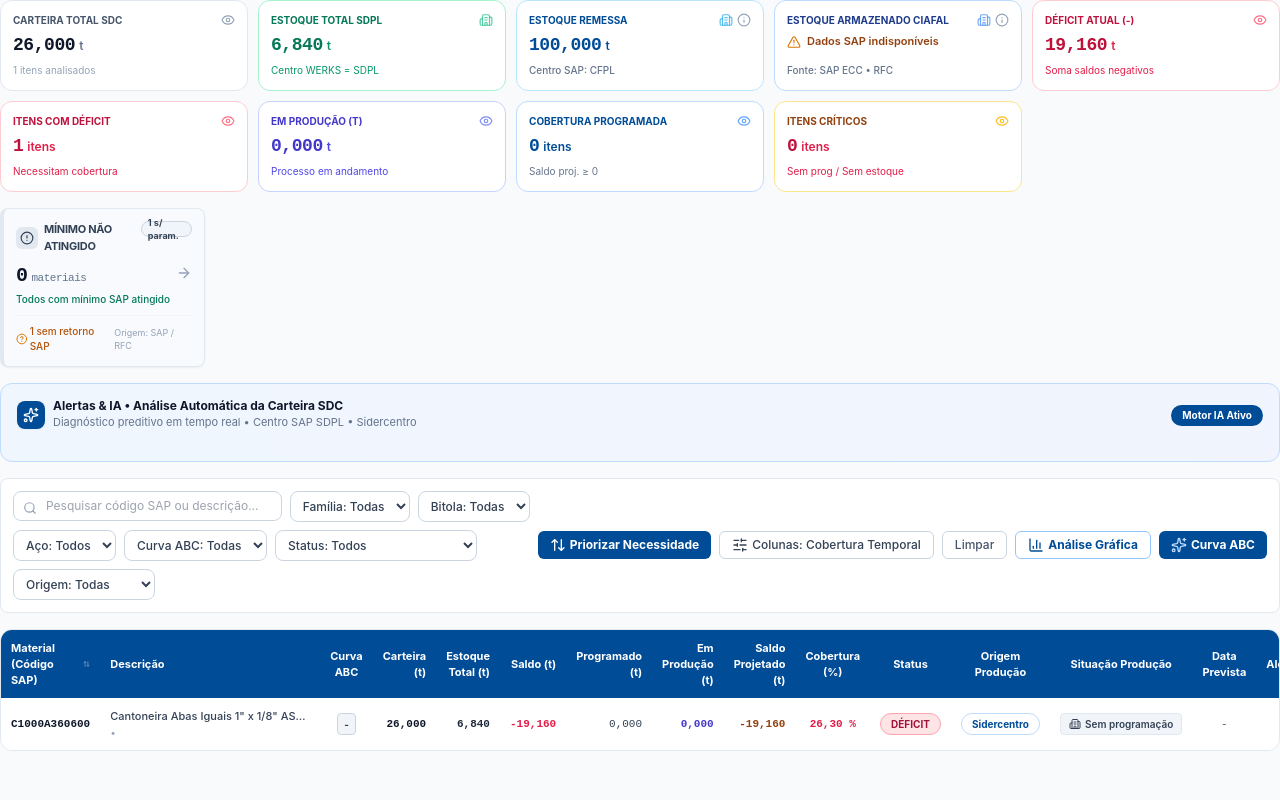
Test: Carteira SDC — Indicadores Estoque Remessa e Estoque Armazenado Ciafal (Cenários 1 a 5) › Cenário 11: Filtro por código ou descrição do centro refina a lista e exibe Total Filtrado com contagem e remove selo Conferido
This screenshot has width=1280, height=800.
Click the button with test id "card-estoque-remessa".
click(640, 46)  # box [516,0,764,91]
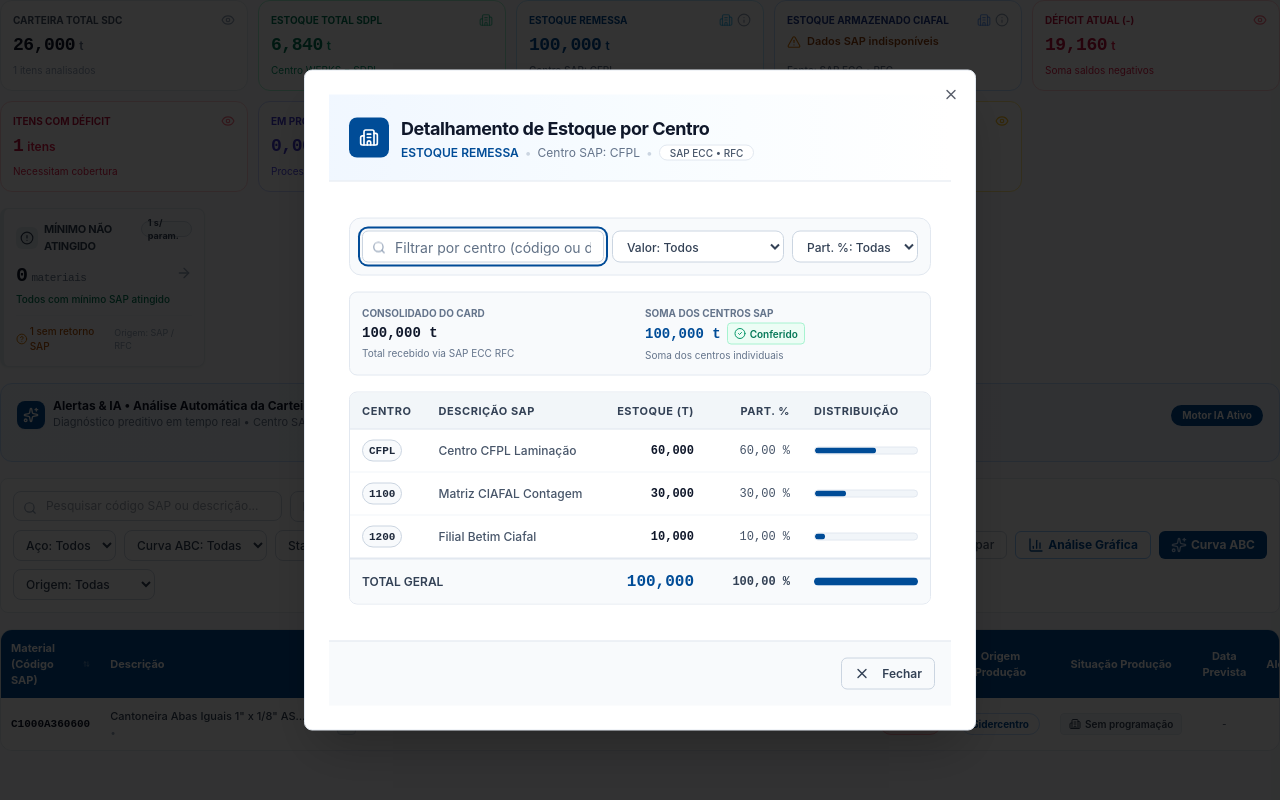
expect the dialog with test id "modal-detalhamento-estoque-centro" is shown: met, box [304,70,976,730]
expect the row with test id "linha-centro-CFPL" is shown: met, box [350,429,930,472]
expect the row with test id "linha-centro-1100" is shown: met, box [350,472,930,515]
Digita "Betim" no input de busca por centro
Type "Betim" into the field with test id "input-busca-centro".
click(483, 246); type("Betim")  # box [362,230,604,262]
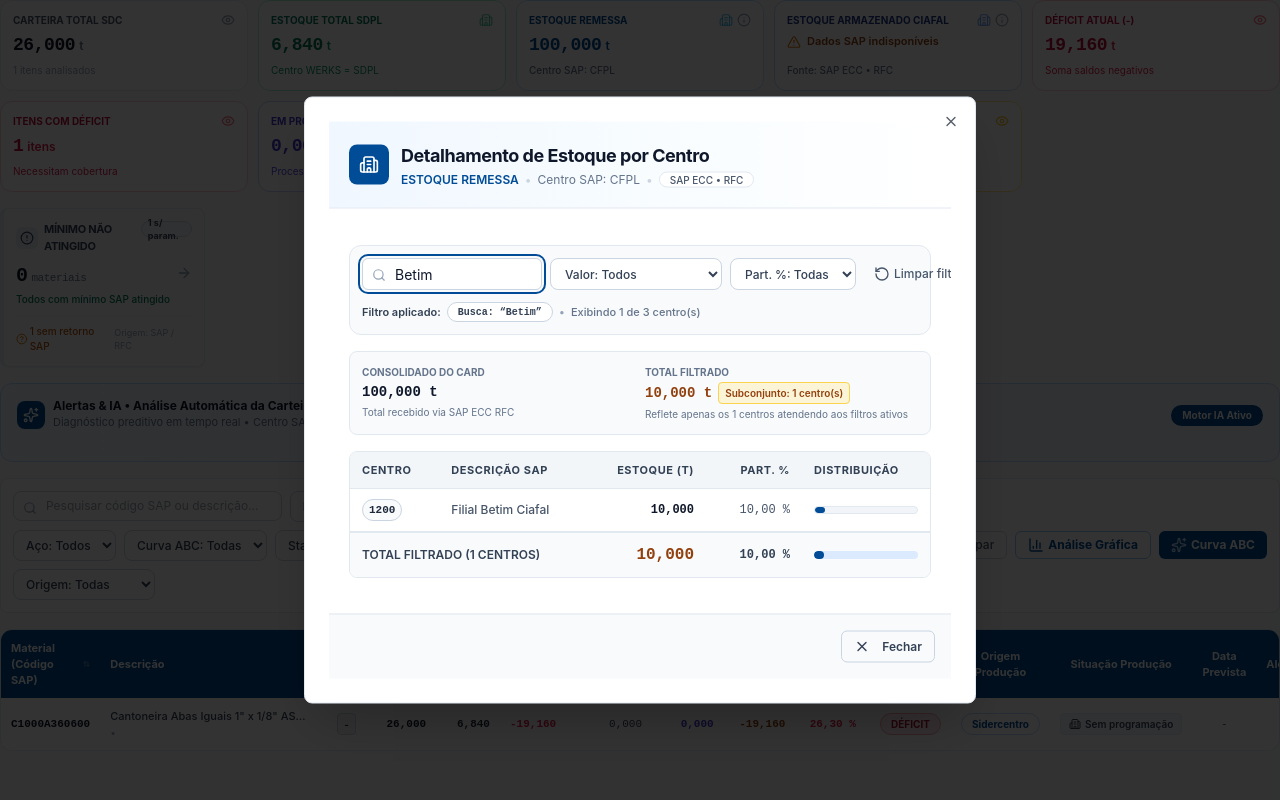
expect the row with test id "linha-centro-1200" is shown: met, box [350,488,930,532]
expect the row with test id "linha-centro-CFPL" is gone: met
expect the row with test id "linha-centro-1100" is gone: met
